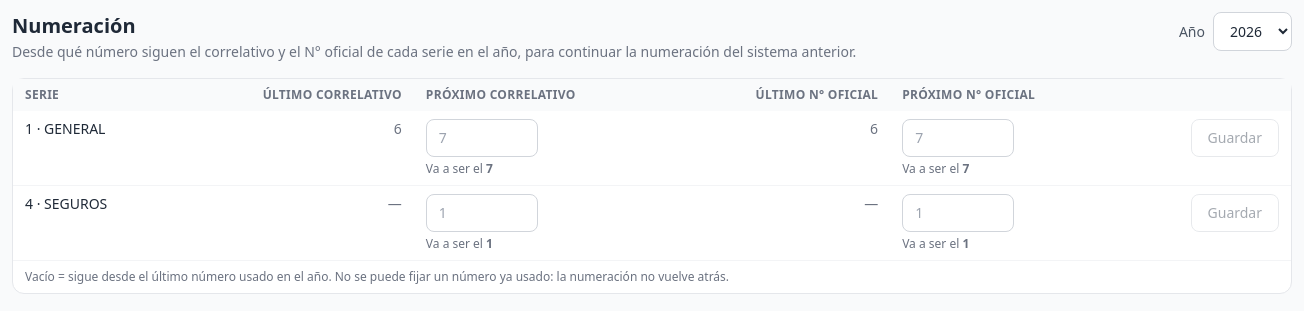
numeración de resoluciones › muestra el motivo si el número ya se usó
The width and height of the screenshot is (1304, 311).
Type "3" into the number field named "Próximo correlativo serie 1". click: (482, 138)
box: [426,119,538,157]
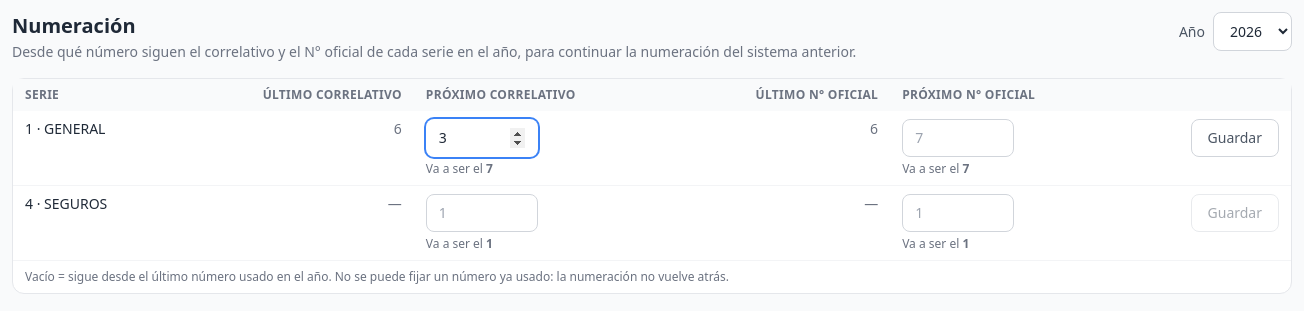
Click the button "Guardar" in the row of "GENERAL". click: click(1235, 138)
box: [1190,119,1279,157]
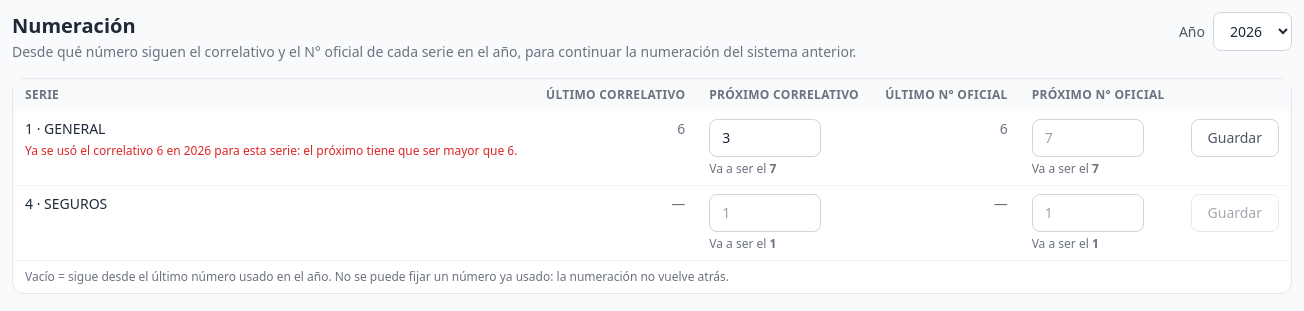
expect the text "tiene que ser mayor que 6" is shown: met, box [25,142,517,159]
